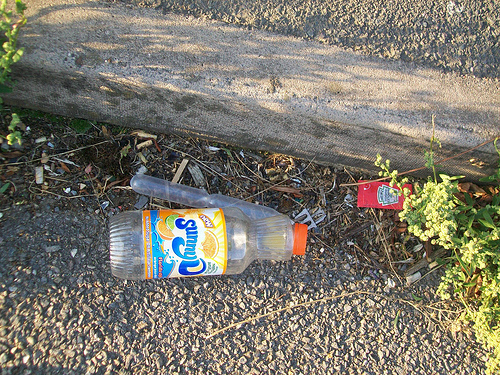litter: (110, 175, 305, 280), (357, 180, 411, 211)
